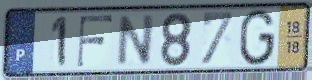1: (49, 15, 67, 69)
7: (200, 10, 234, 68)
8: (160, 11, 194, 69)
F: (75, 13, 115, 69)
G: (237, 8, 278, 69)
N: (115, 13, 158, 68)
